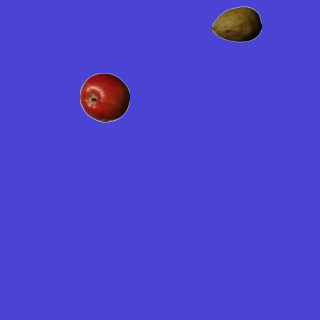Apple Braeburn: (79, 72, 129, 122)
Papaya: (211, 0, 261, 49)
